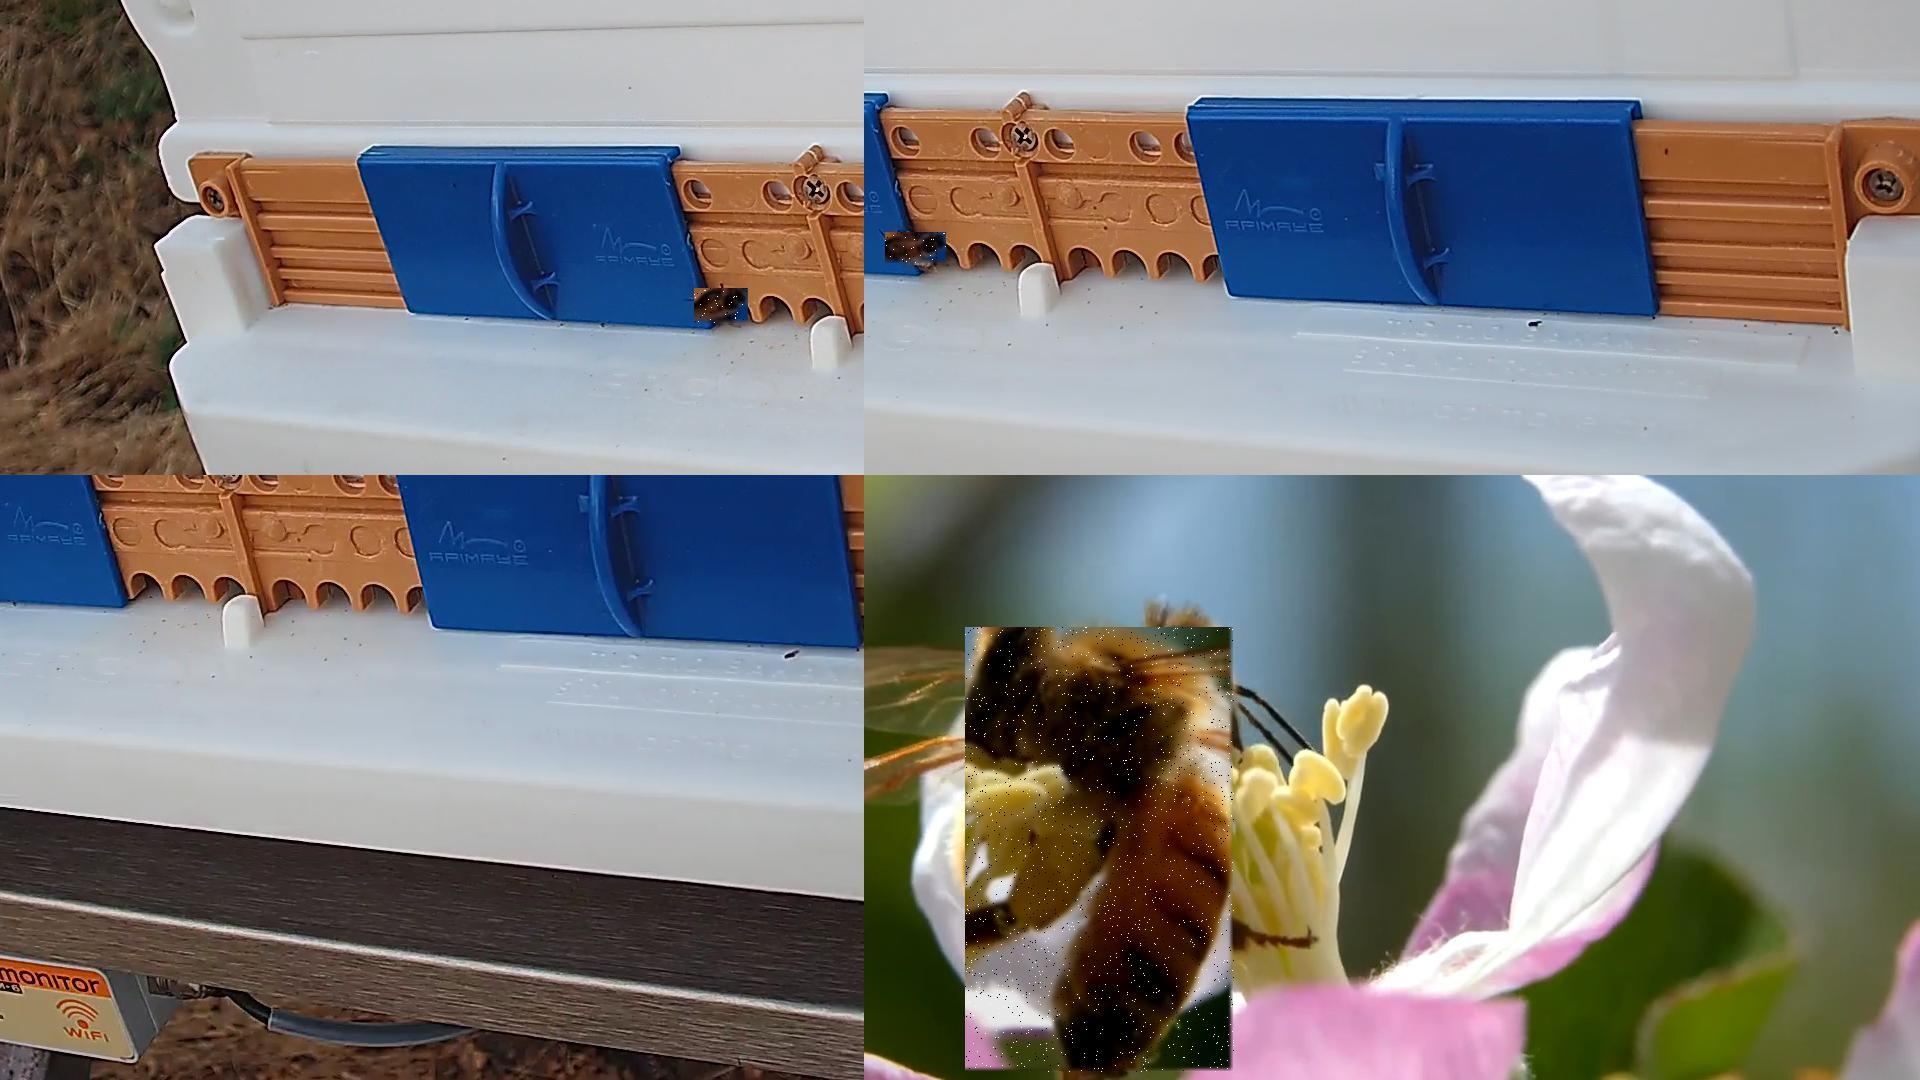bee: (967, 628, 1236, 1073), (694, 289, 749, 326), (885, 233, 947, 266)
